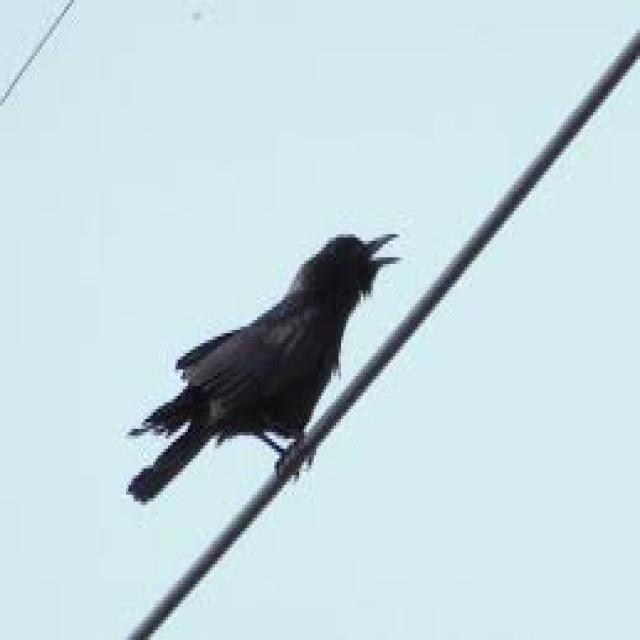bird: (117, 204, 404, 527)
